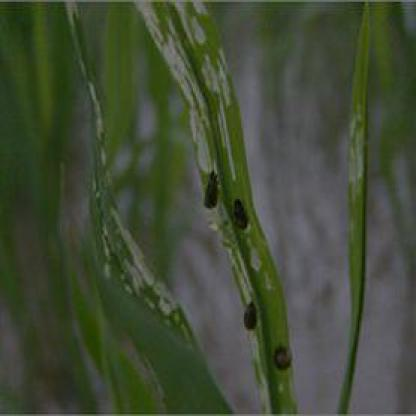rice-bug: (270, 342, 294, 370), (202, 171, 219, 209), (242, 299, 260, 330), (232, 200, 248, 229)
